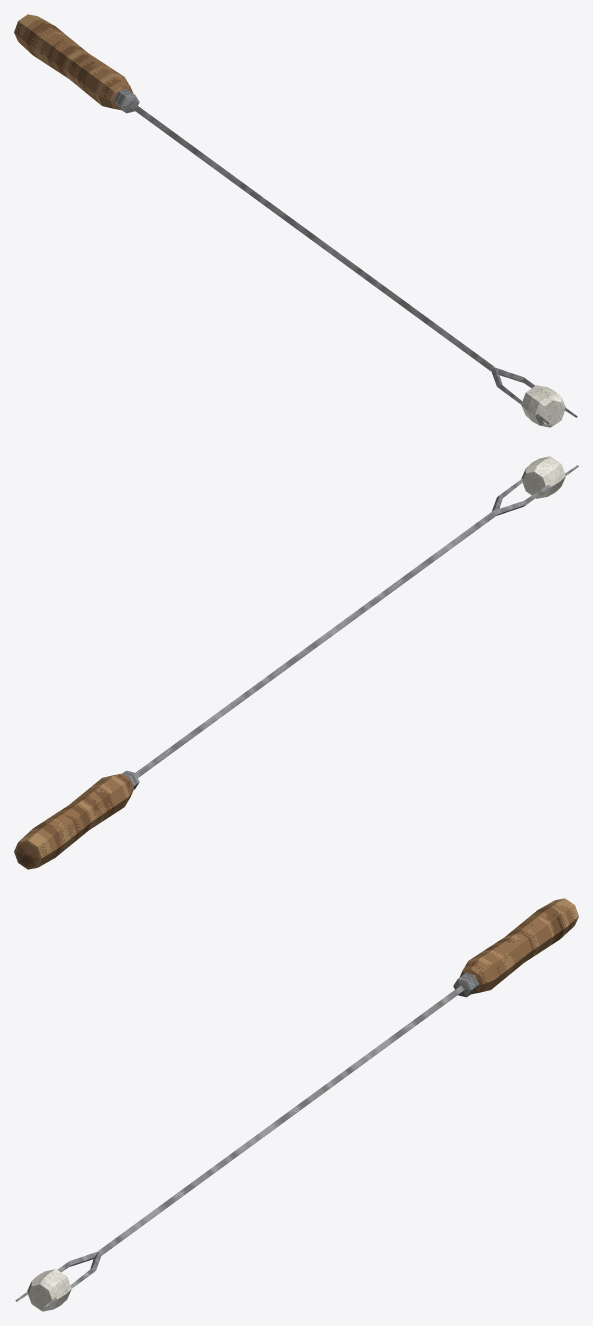
The model's file is PROP_Marshmallow_Stick_01.glb.
3 views of the same model, one above another, from view 1: azimuth 30°, elevation 25°; view 2: azimuth 150°, elevation 25°; view 3: azimuth 330°, elevation 25° (orthographic).
Parts seen in each view (by area): view 1: PROP_Marshmallow_Stick_01; view 2: PROP_Marshmallow_Stick_01; view 3: PROP_Marshmallow_Stick_01.
Boxes of the visible parts, x1,y1,x2,y2 form: PROP_Marshmallow_Stick_01: [14, 14, 577, 427]; PROP_Marshmallow_Stick_01: [14, 456, 578, 869]; PROP_Marshmallow_Stick_01: [15, 898, 578, 1311].
Bounding box in the file's own units: 0.033 × 0.033 × 0.93.
Materials: 3 (3 with a texture image).
